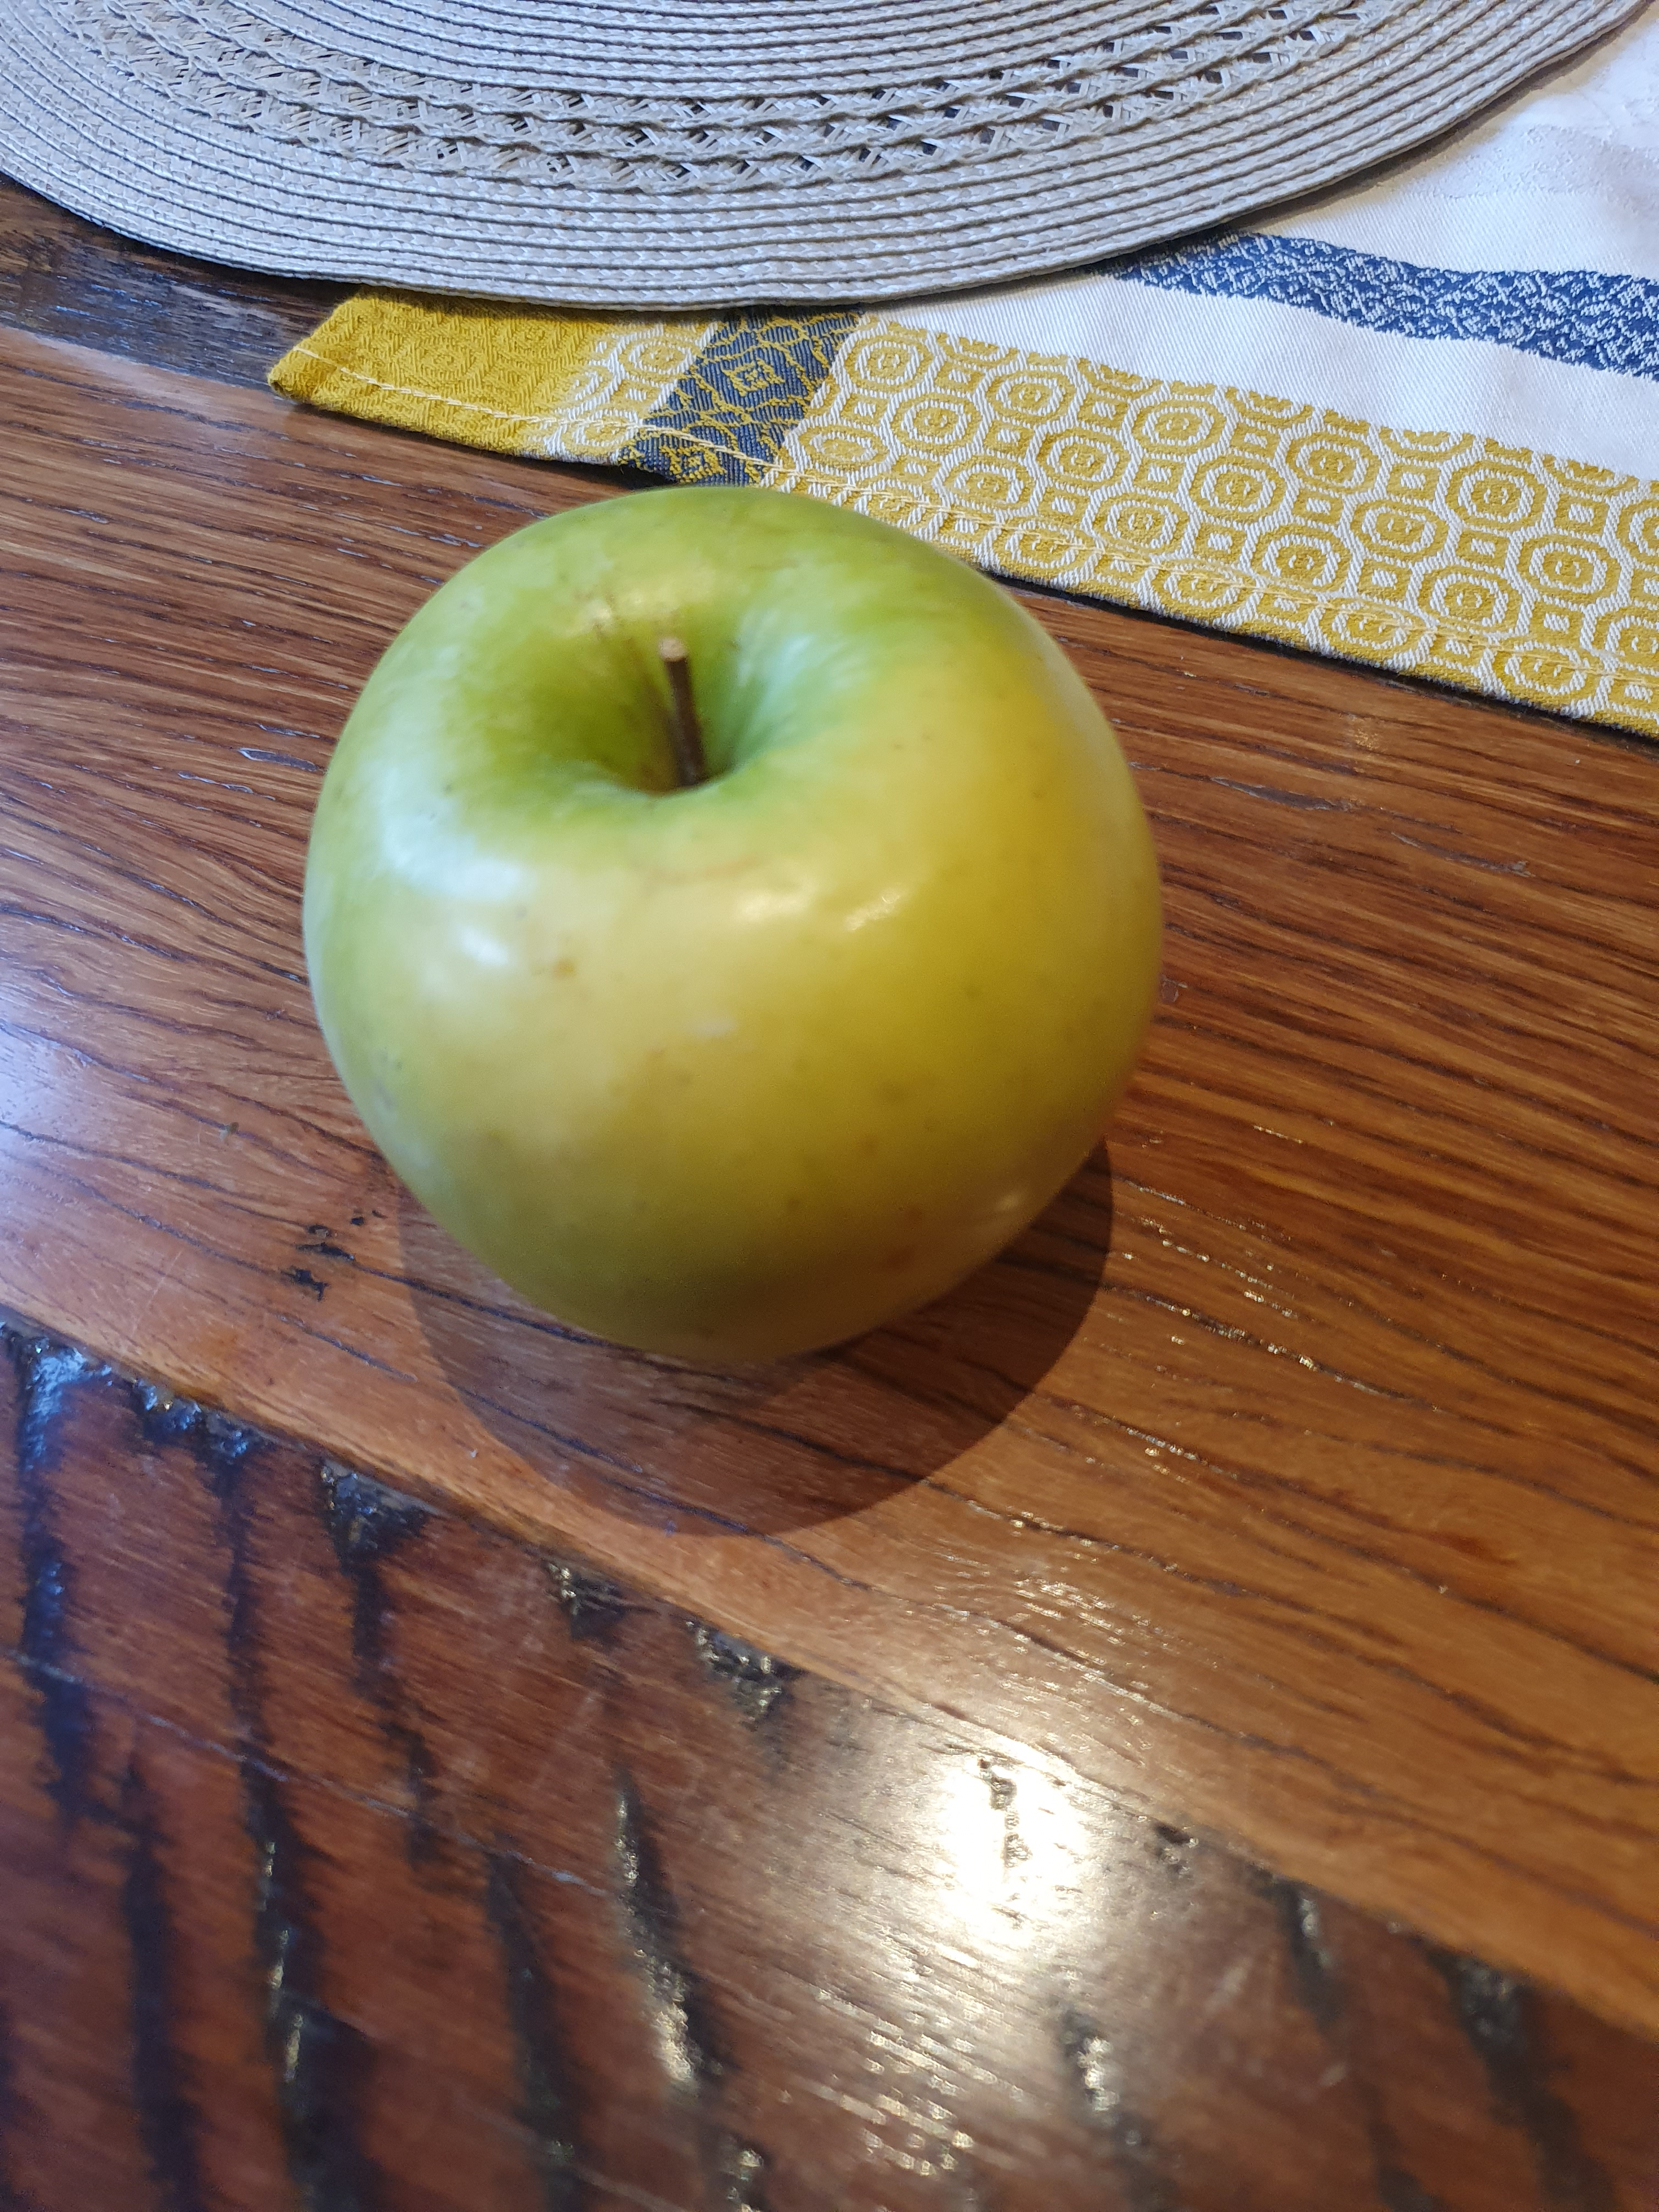green apple: (237, 463, 1171, 1379)
